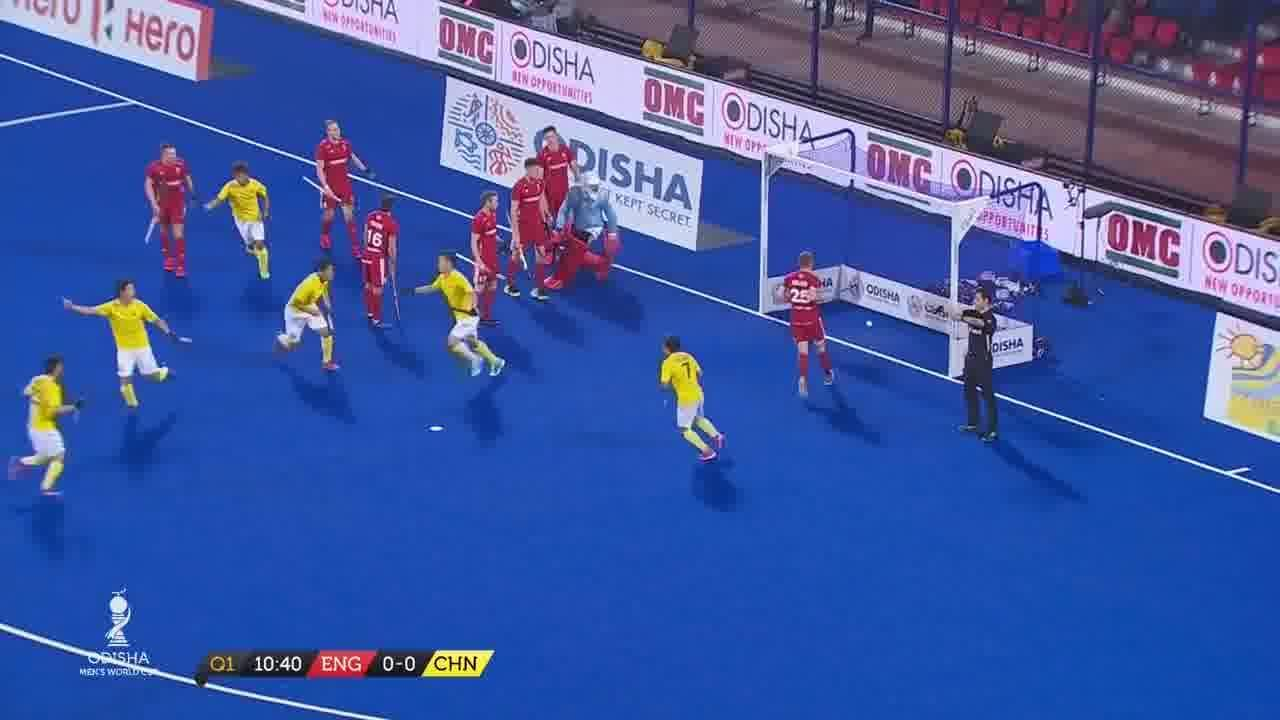ball: (864, 320, 874, 328)
